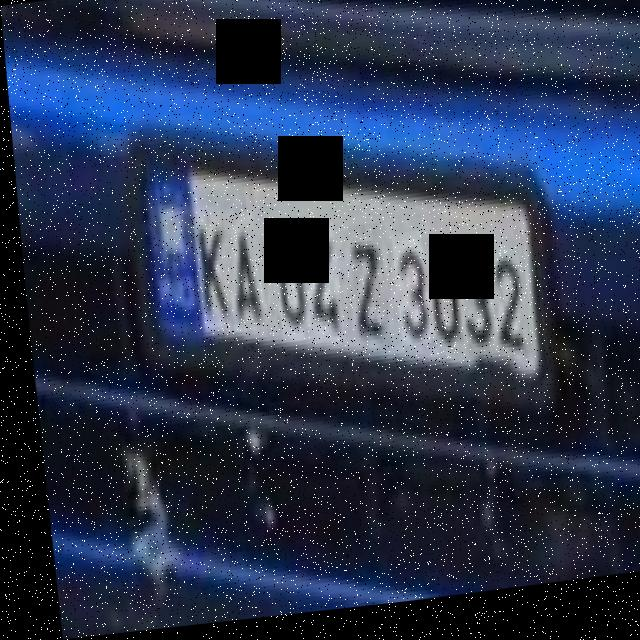0: (266, 229, 305, 348), (421, 249, 457, 356)
3: (385, 239, 425, 355), (452, 252, 487, 367)
4: (295, 229, 338, 350)
A: (217, 215, 257, 338)
K: (188, 210, 226, 332)
Z: (342, 230, 384, 362)
